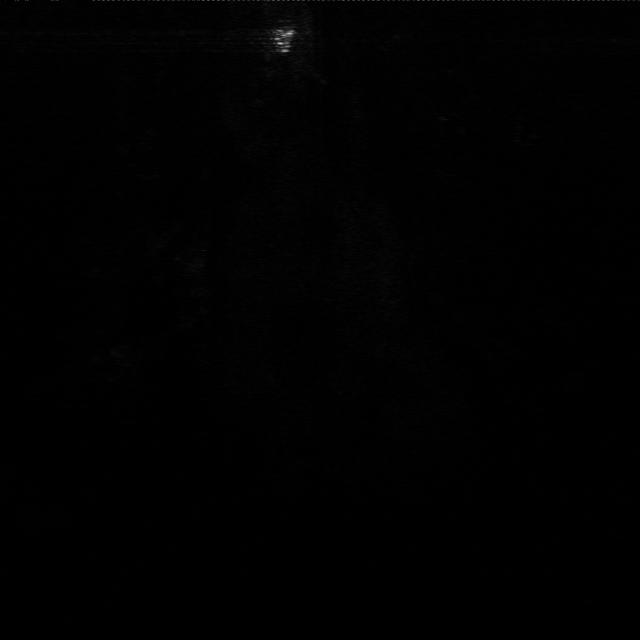rov: (267, 24, 299, 56)
